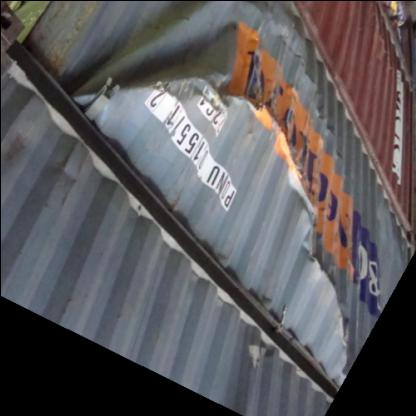Damage: (274, 118, 380, 374), (80, 3, 268, 127)
